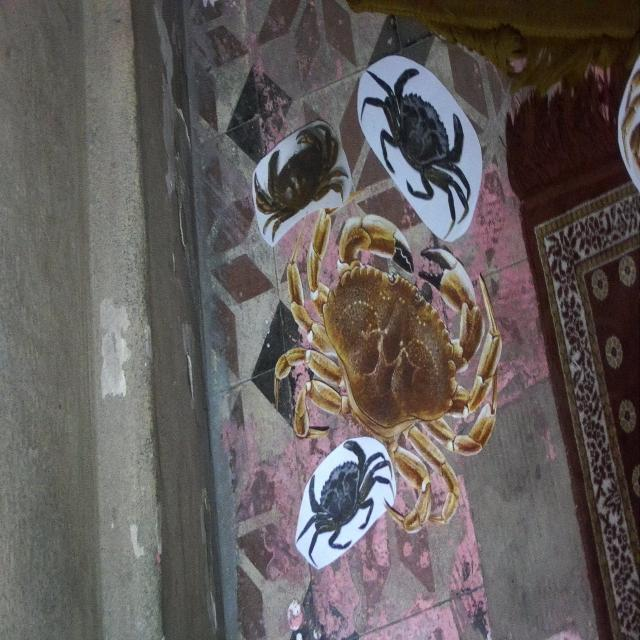European_Green_Crab: (351, 27, 490, 252), (288, 413, 398, 581)
